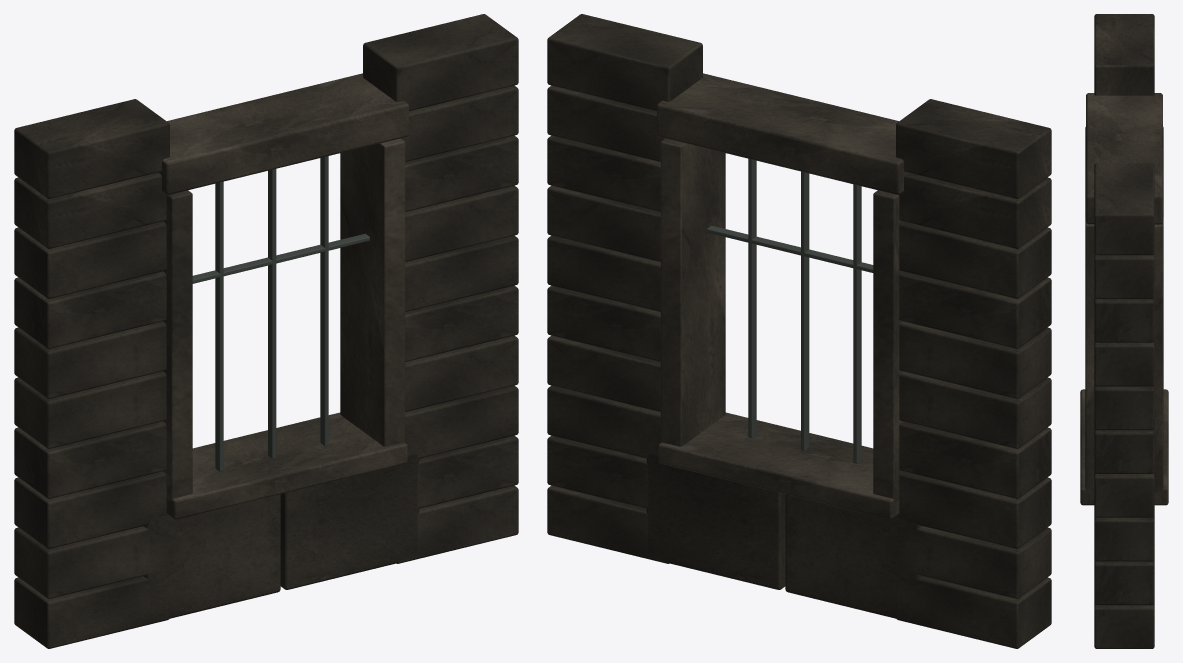
The model's file is C14_window_bay.gltf.
The picture shows the model from 3 angles, left to right: view 1: azimuth 30°, elevation 25°; view 2: azimuth 150°, elevation 25°; view 3: azimuth 270°, elevation 25°; orthographic projection. The views are drawn at different scales.
Parts seen in each view (by area): view 1: Window jamb.001, Window lintel, Window lower masonry.001, Window lower masonry, Window sill, Window side masonry.009, Window side masonry.019, Window jamb, Window side masonry.003, Window side masonry.004, Window side masonry.005, Window side masonry.006 (+18 smaller); view 2: Window jamb.001, Window lintel, Window lower masonry.001, Window sill, Window lower masonry, Window side masonry.009, Window side masonry.019, Window jamb, Window side masonry.003, Window side masonry.004, Window side masonry.005, Window side masonry.006 (+18 smaller); view 3: Window lintel, Window side masonry.019, Window jamb.001, Window side masonry.009, Window side masonry.016, Window side masonry.011, Window side masonry.012, Window side masonry.015, Window side masonry.013, Window side masonry.017, Window side masonry.010, Window side masonry.014 (+3 smaller).
Boxes of the visible parts, left/top/right/bottom form: Window jamb.001: left=340, top=138, right=405, bottom=446; Window lintel: left=158, top=73, right=408, bottom=194; Window lower masonry.001: left=280, top=454, right=419, bottom=589; Window lower masonry: left=143, top=494, right=280, bottom=619; Window sill: left=166, top=412, right=407, bottom=519; Window side masonry.009: left=14, top=99, right=169, bottom=198; Window side masonry.019: left=363, top=14, right=518, bottom=111; Window jamb: left=163, top=190, right=192, bottom=501; Window side masonry.003: left=14, top=421, right=166, bottom=498; Window side masonry.004: left=14, top=371, right=166, bottom=448; Window side masonry.005: left=14, top=321, right=166, bottom=398; Window side masonry.006: left=14, top=271, right=166, bottom=348; Window jamb.001: left=660, top=138, right=725, bottom=446; Window lintel: left=657, top=73, right=907, bottom=194; Window lower masonry.001: left=646, top=454, right=785, bottom=589; Window sill: left=658, top=412, right=899, bottom=519; Window lower masonry: left=785, top=494, right=922, bottom=618; Window side masonry.009: left=896, top=99, right=1051, bottom=198; Window side masonry.019: left=547, top=14, right=702, bottom=111; Window jamb: left=873, top=190, right=902, bottom=501; Window side masonry.003: left=899, top=421, right=1051, bottom=498; Window side masonry.004: left=899, top=371, right=1051, bottom=448; Window side masonry.005: left=899, top=321, right=1051, bottom=398; Window side masonry.006: left=899, top=271, right=1051, bottom=348; Window lintel: left=1086, top=93, right=1162, bottom=224; Window side masonry.019: left=1094, top=163, right=1154, bottom=255; Window jamb.001: left=1085, top=218, right=1163, bottom=491; Window side masonry.009: left=1094, top=14, right=1154, bottom=95; Window side masonry.016: left=1094, top=341, right=1154, bottom=386; Window side masonry.011: left=1094, top=560, right=1154, bottom=605; Window side masonry.012: left=1094, top=516, right=1154, bottom=561; Window side masonry.015: left=1094, top=385, right=1154, bottom=430; Window side masonry.013: left=1094, top=472, right=1154, bottom=517; Window side masonry.017: left=1094, top=297, right=1154, bottom=342; Window side masonry.010: left=1094, top=603, right=1154, bottom=648; Window side masonry.014: left=1094, top=428, right=1154, bottom=473.
Bounding box in the file's own units: 3.95 × 3.98 × 0.73.
Materials: 5 (4 with a texture image).
